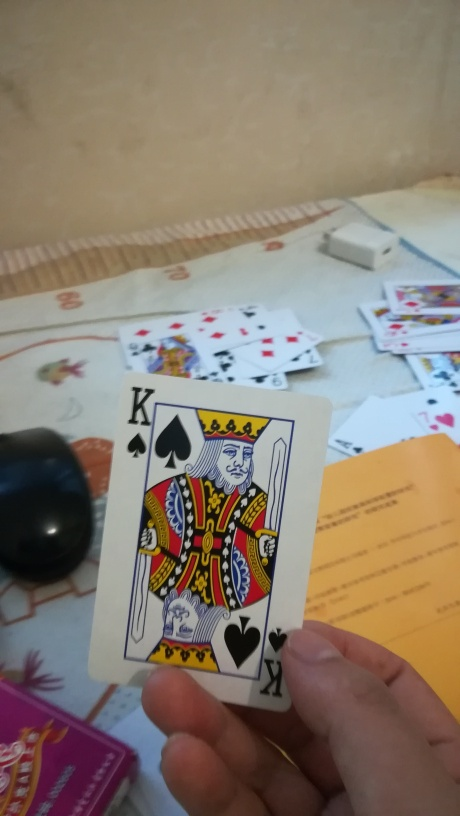ht k: (83, 365, 331, 722)
